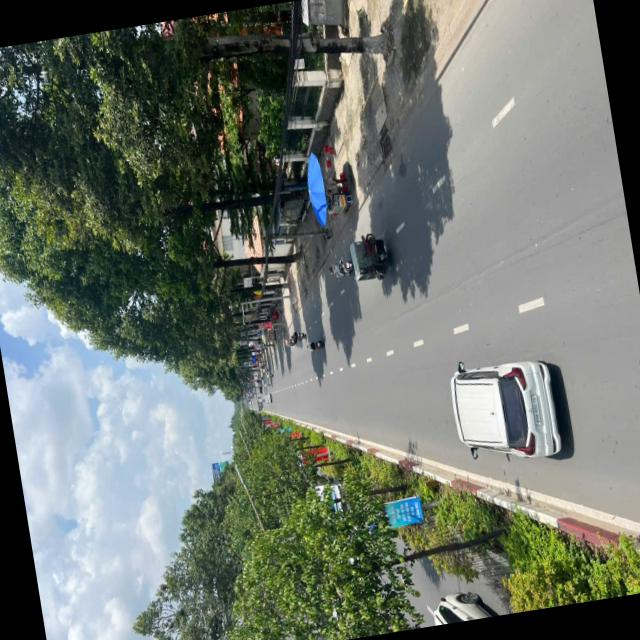car: (442, 338, 572, 476), (260, 389, 276, 406)
motobyte: (322, 256, 356, 282), (304, 336, 325, 355), (288, 326, 307, 344), (280, 335, 298, 347)
